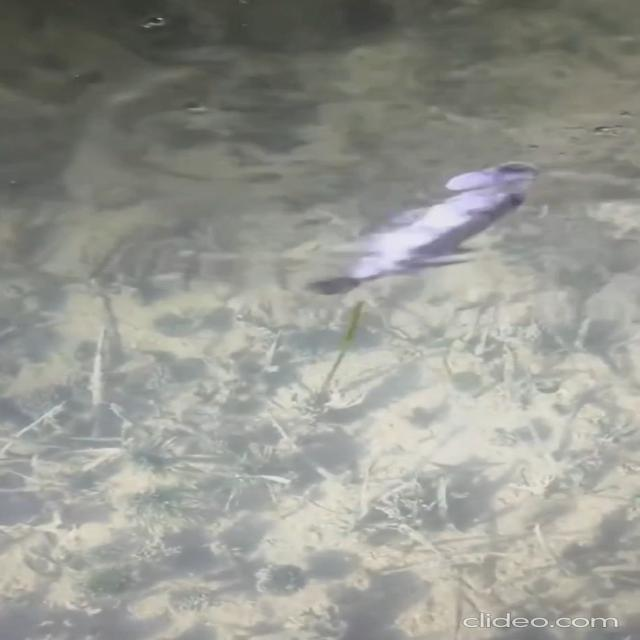fish: (326, 155, 567, 292)
